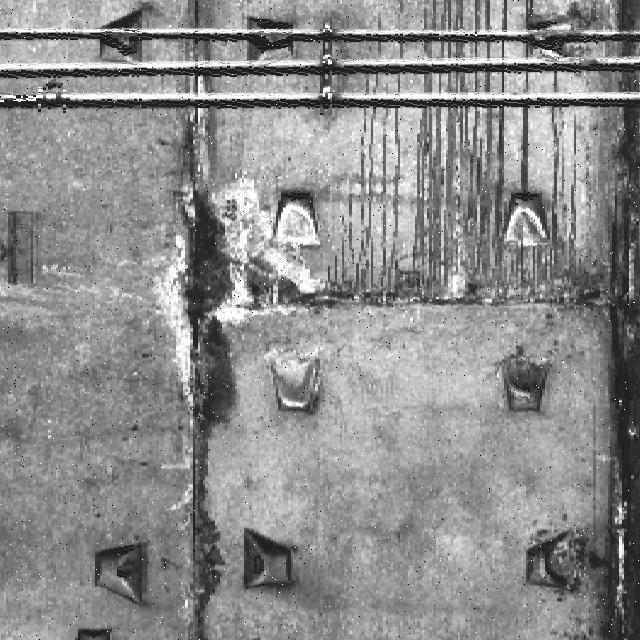leakage: (147, 104, 331, 640), (342, 1, 580, 316), (582, 1, 639, 639)
